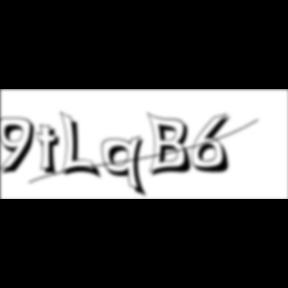6: (192, 112, 236, 176)
9: (0, 117, 42, 177)
B: (147, 111, 197, 179)
L: (60, 110, 104, 182)
q: (102, 135, 150, 200)
t: (36, 124, 68, 179)
